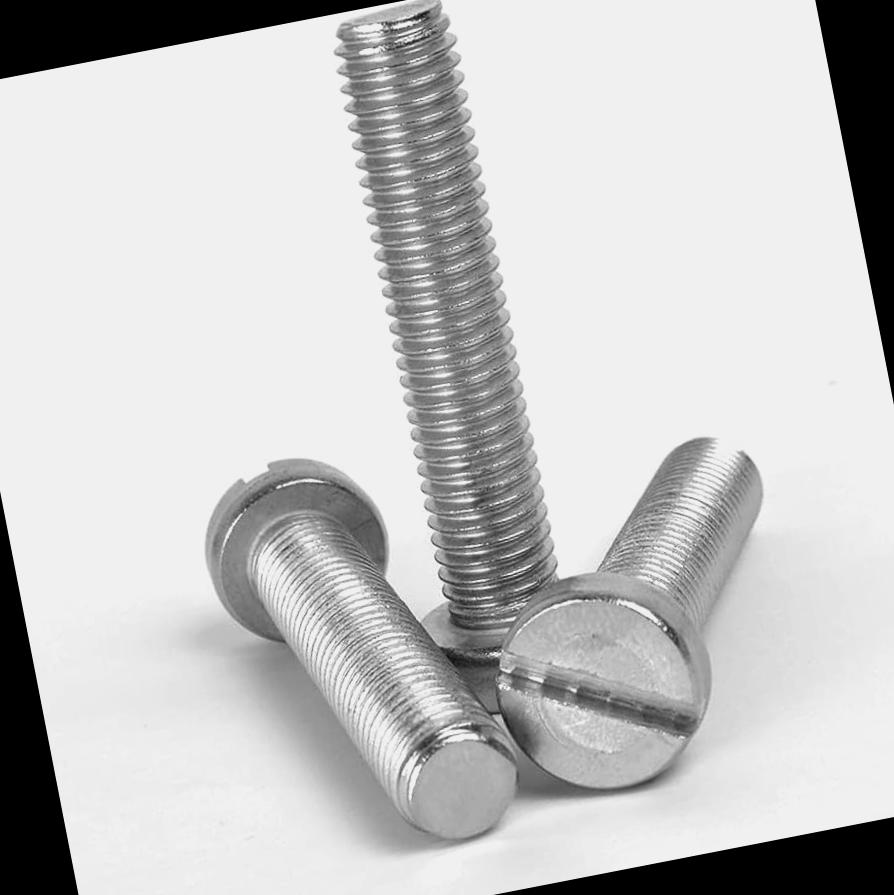slotted: (481, 555, 729, 821)
